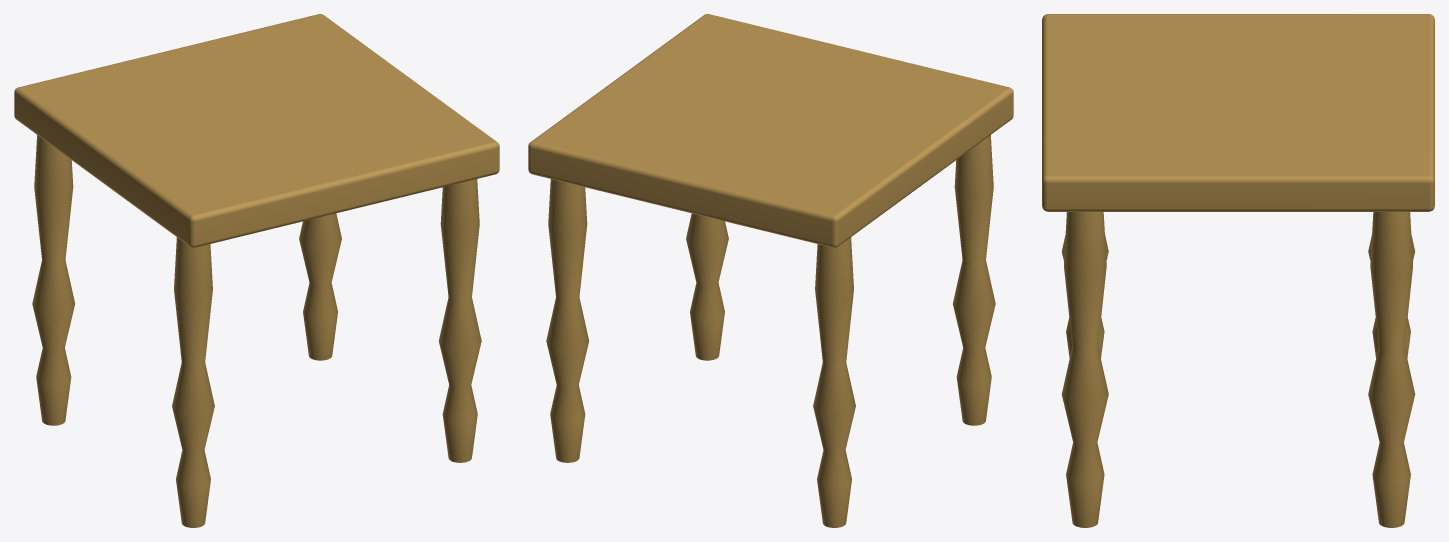
File: wh-gold-side-table.glb
3 views of the same model, side by side, from view 1: azimuth 30°, elevation 25°; view 2: azimuth 150°, elevation 25°; view 3: azimuth 270°, elevation 25° (orthographic). The views are drawn at different scales.
Parts seen in each view (by area): view 1: Table top.002; view 2: Table top.002; view 3: Table top.002.
Boxes of the visible parts, x1,y1,x2,y2 form: Table top.002: [14, 14, 499, 527]; Table top.002: [528, 14, 1013, 527]; Table top.002: [1042, 14, 1434, 527].
Size of the model in its own units: 0.55 by 0.55 by 0.55.
